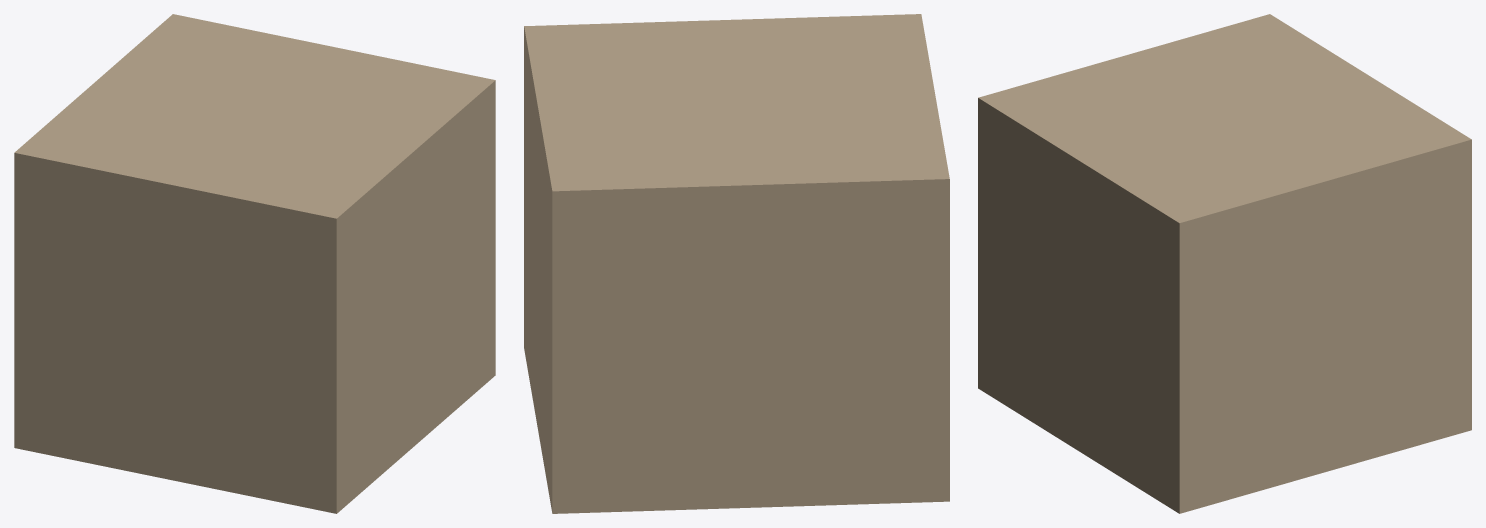
The model's file is bld_101791691.dae.
The picture shows the model from 3 angles, left to right: view 1: azimuth 30°, elevation 25°; view 2: azimuth 150°, elevation 25°; view 3: azimuth 270°, elevation 25°; orthographic projection. The views are drawn at different scales.
Parts seen in each view (by area): view 1: bld_101791691; view 2: bld_101791691; view 3: bld_101791691.
Boxes of the visible parts, x1,y1,x2,y2 form: bld_101791691: [14, 14, 495, 513]; bld_101791691: [524, 14, 949, 513]; bld_101791691: [978, 14, 1471, 513].
Size of the model in its own units: 12.35 by 12.32 by 8.
